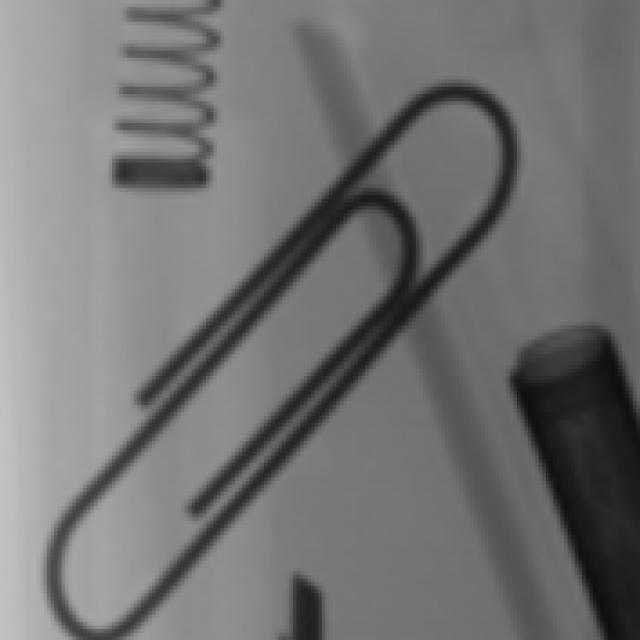GUN: (518, 330, 640, 640)
